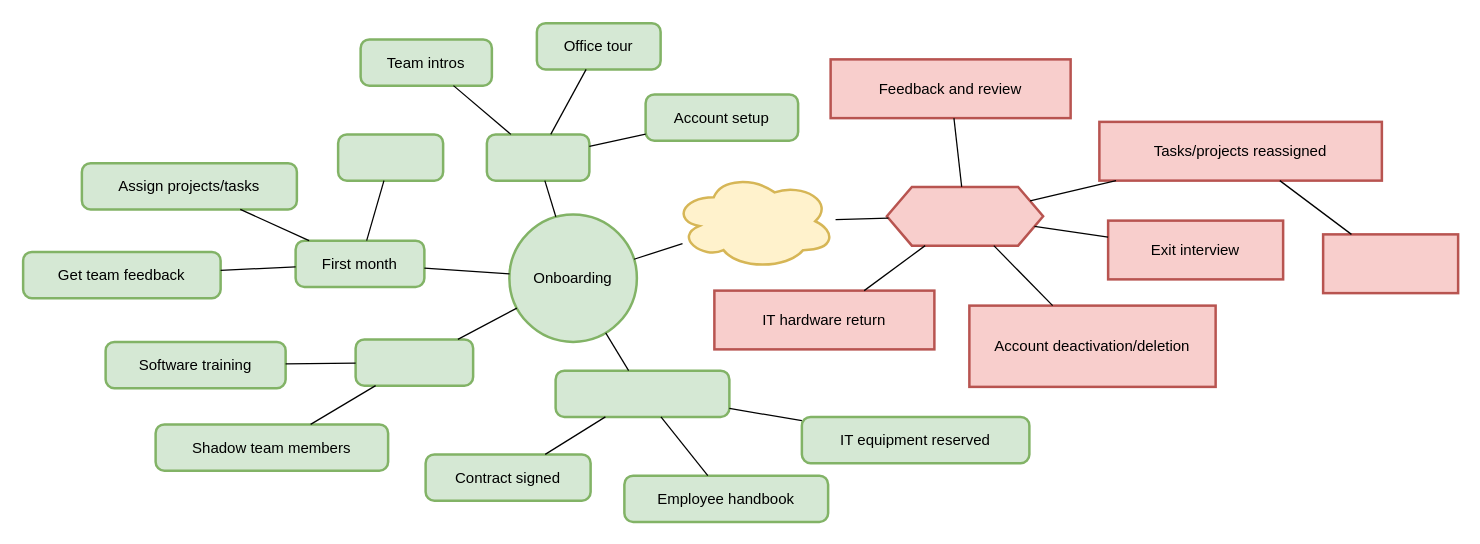
Some shapes in this 1480 by 544 pixel diagram are drawn without their labels. The centre of each missing label's shape, as x and y in pixels:
"First day" belongs at [537,156].
"First week" belongs at [414,362].
"Handover" belongs at [1390,263].
"HR" belongs at [753,220].
"Offboarding" belongs at [964,215].
"Prior to first day" belongs at [642,393].
"Set goals" belongs at [390,156].
